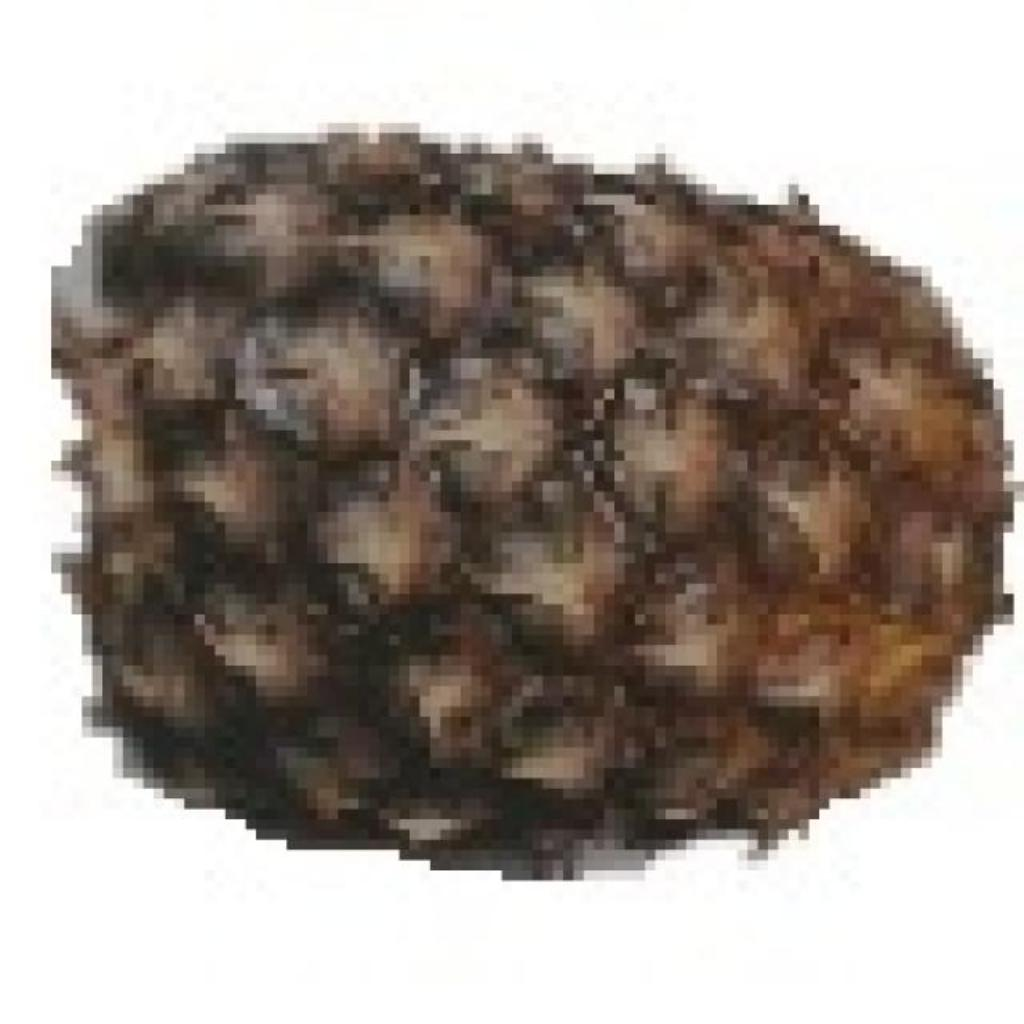pineapple: (72, 123, 1024, 860)
